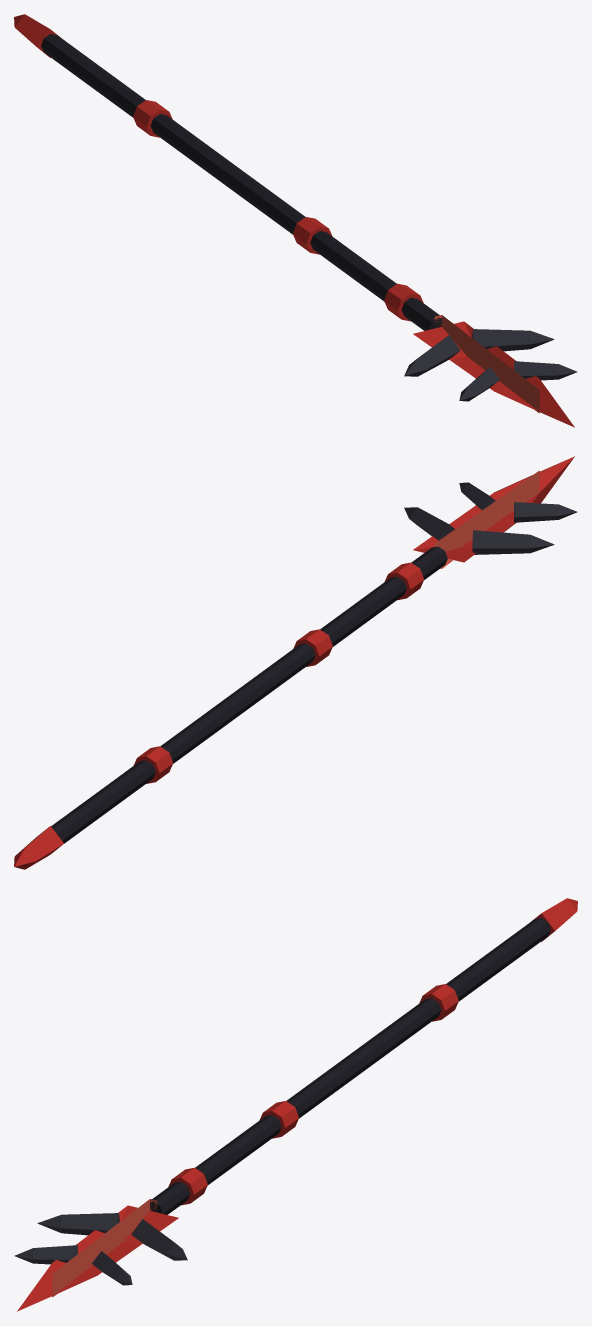
File: 28_Doomspike_Lance.glb
The picture shows the model from 3 angles, top to bottom: view 1: azimuth 30°, elevation 25°; view 2: azimuth 150°, elevation 25°; view 3: azimuth 330°, elevation 25°; orthographic projection.
Parts seen in each view (by area): view 1: 28_Doomspike_Lance; view 2: 28_Doomspike_Lance; view 3: 28_Doomspike_Lance.
Part boxes in pixels (x1=…): 28_Doomspike_Lance: x1=14, y1=14, x2=577, y2=427; 28_Doomspike_Lance: x1=14, y1=456, x2=577, y2=869; 28_Doomspike_Lance: x1=14, y1=898, x2=577, y2=1311.
Bounding box in the file's own units: 0.382 × 0.07 × 2.46.
